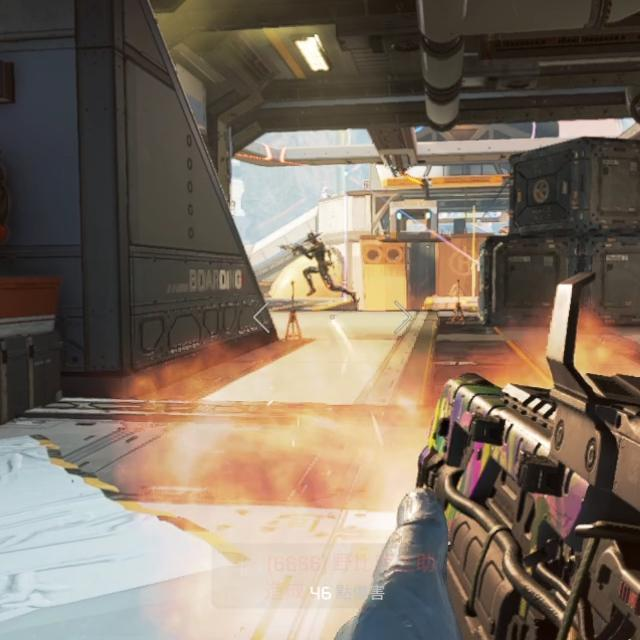avatar: (301, 229, 330, 299)
